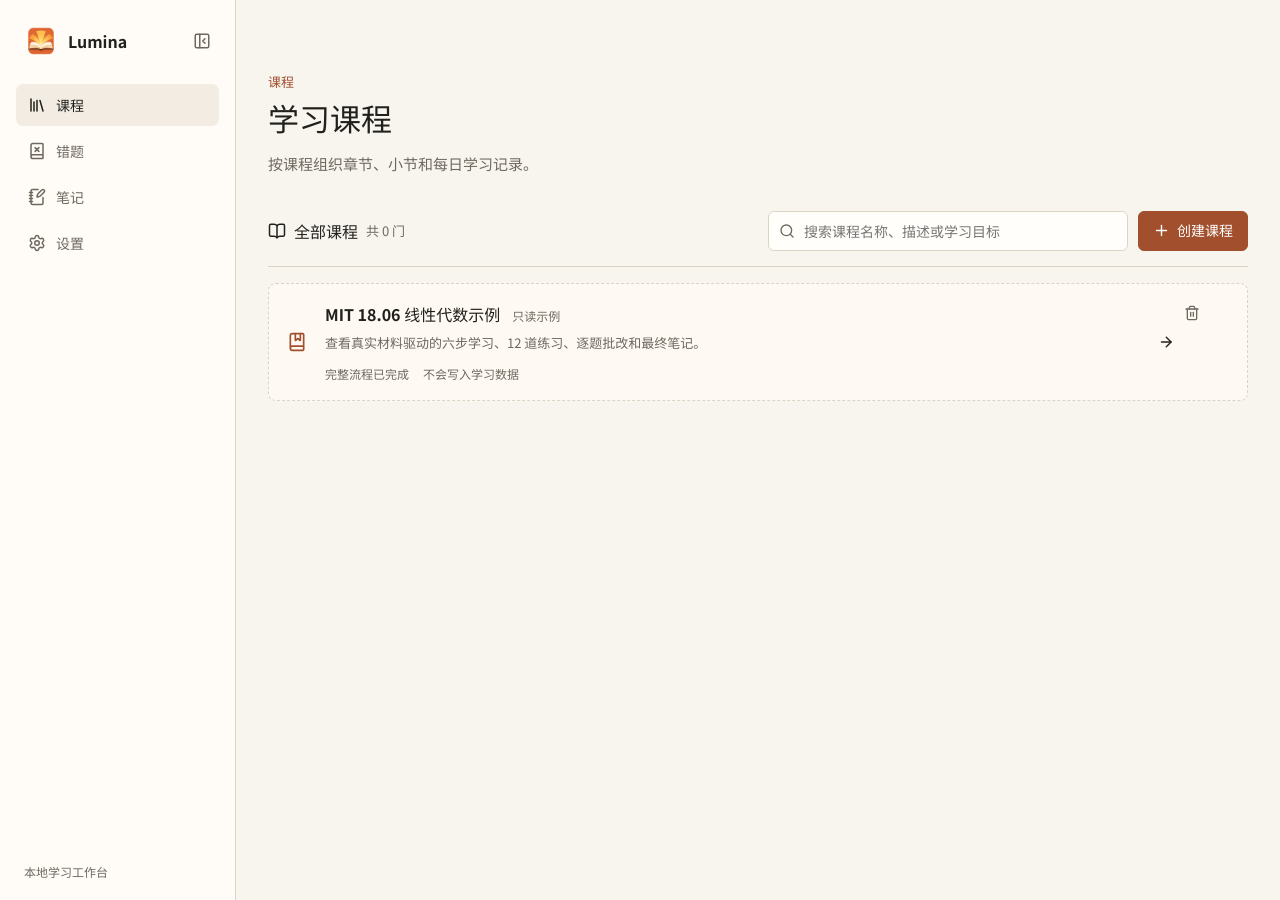
Test: App › collapses the sidebar and persists the preference
This screenshot has width=1280, height=900.
Expected: the heading "MIT 18.06 线性代数示例" is shown, [325,302,500,326]
Step 1. Click the button named "收起侧栏" → click(202, 41), box [185,24,219,58]
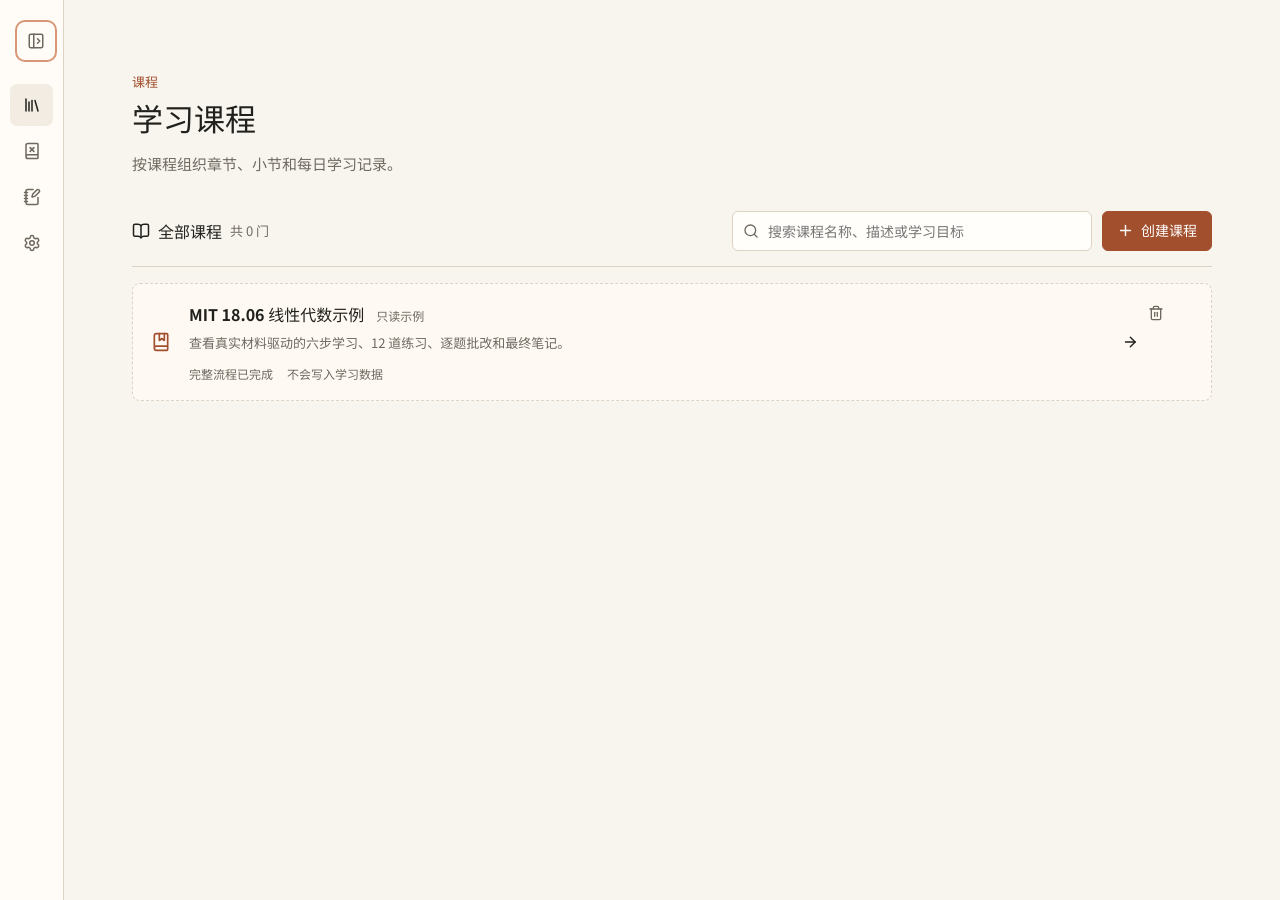
Expected: the button named "展开侧栏" is collapsed, [18,24,52,58]
